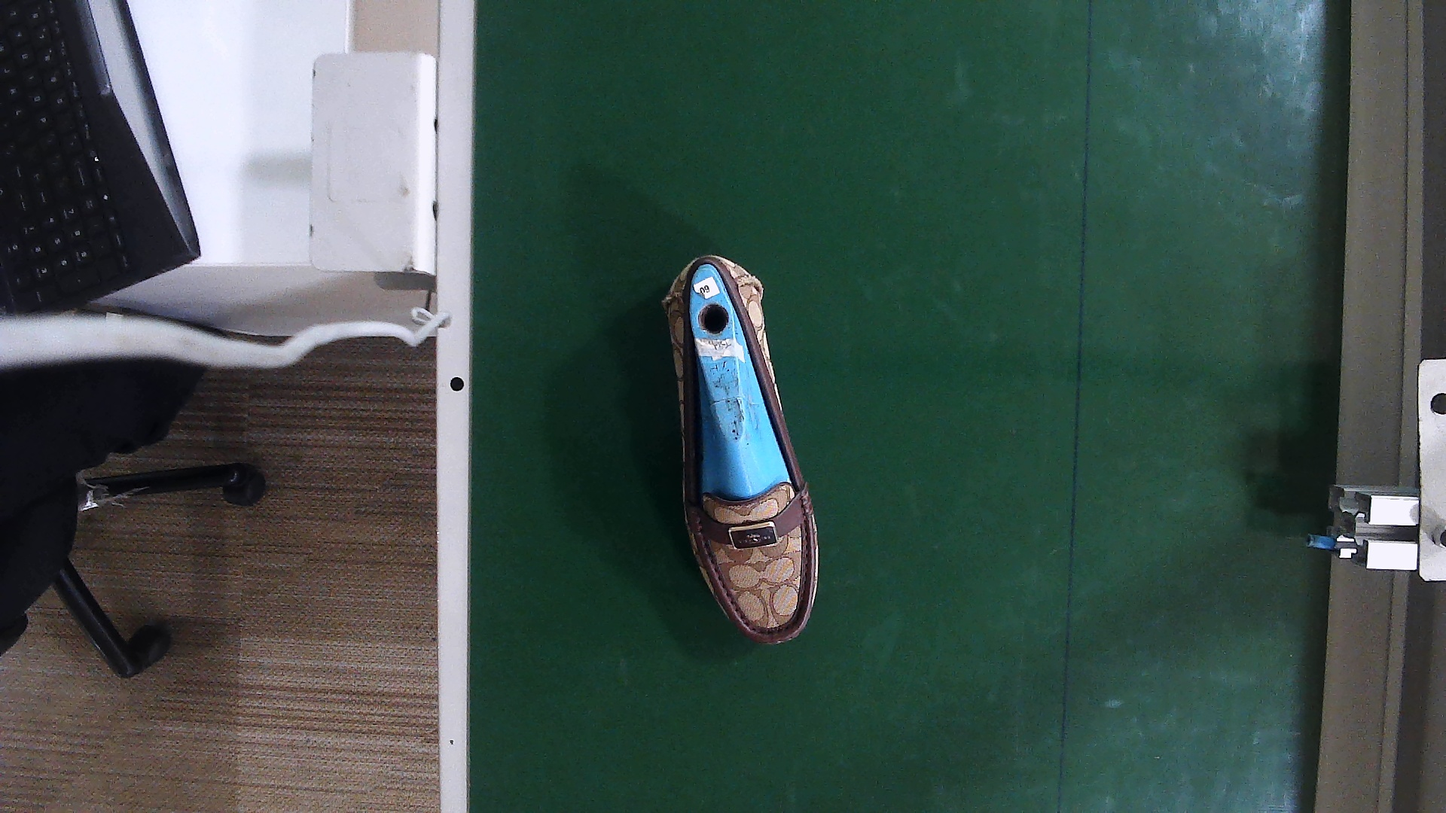shoe: (669, 257, 815, 644)
